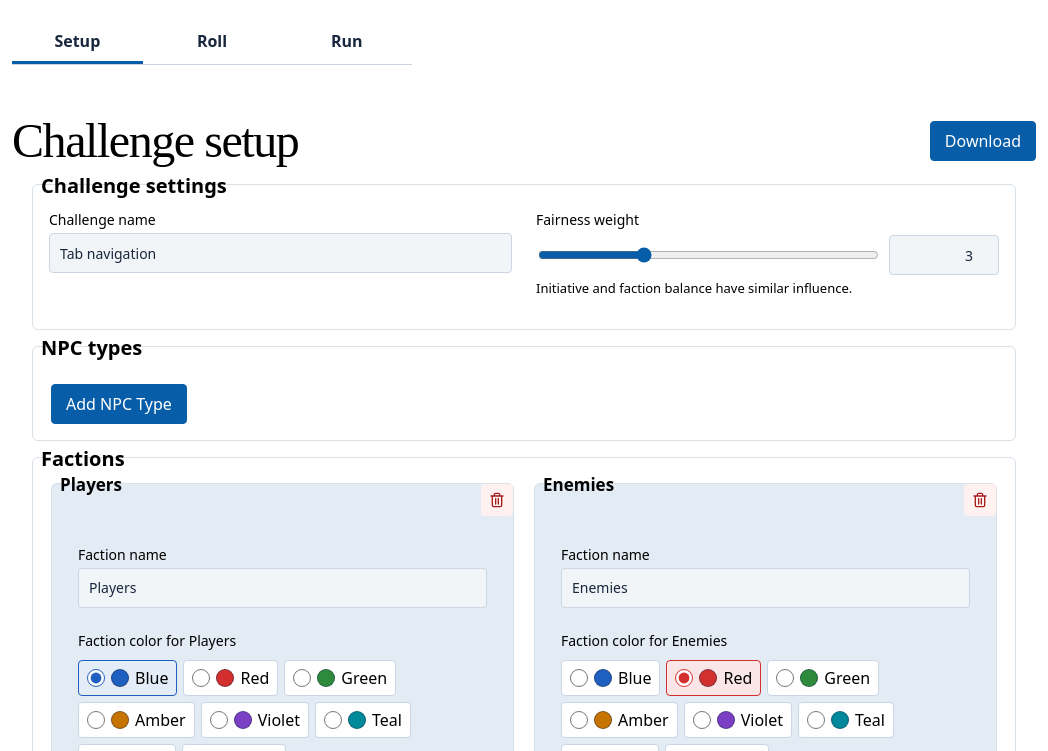
challenge workflow tabs › keeps the selected panel and URL when saving fails before a tab switch
Click the tab "Run". click: x=347, y=42
box: [281,20,412,64]
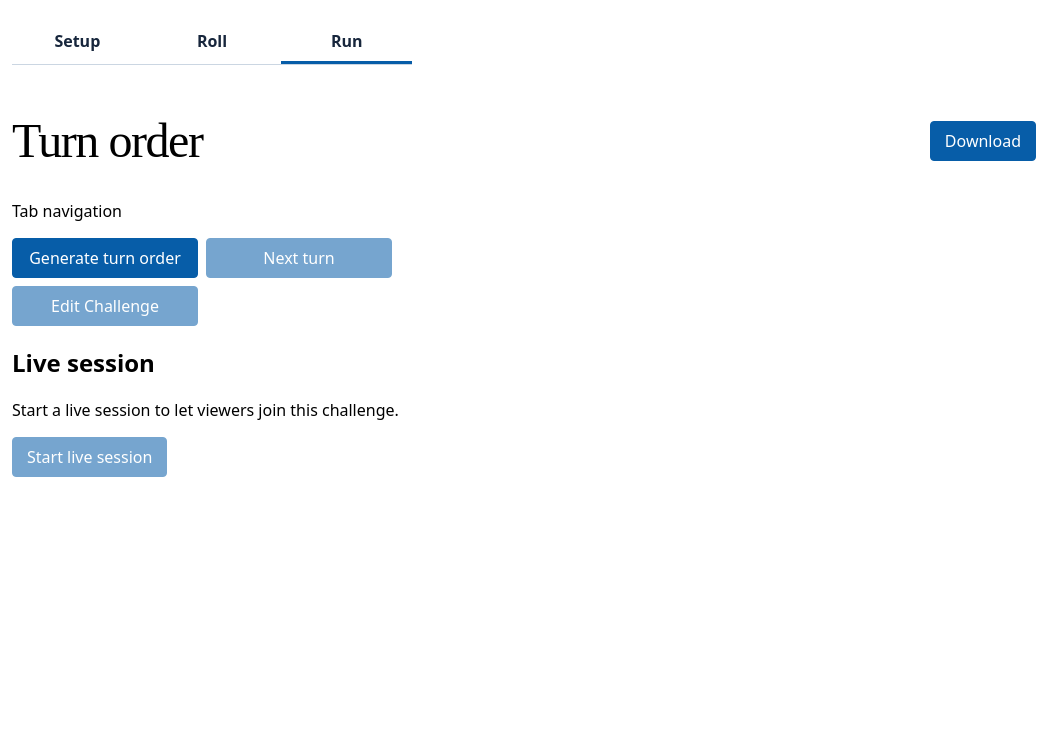
Result: the heading "Turn order" is shown at [12,114,202,167]
Click the tab "Setup". click: x=77, y=42
box: [12,20,143,64]
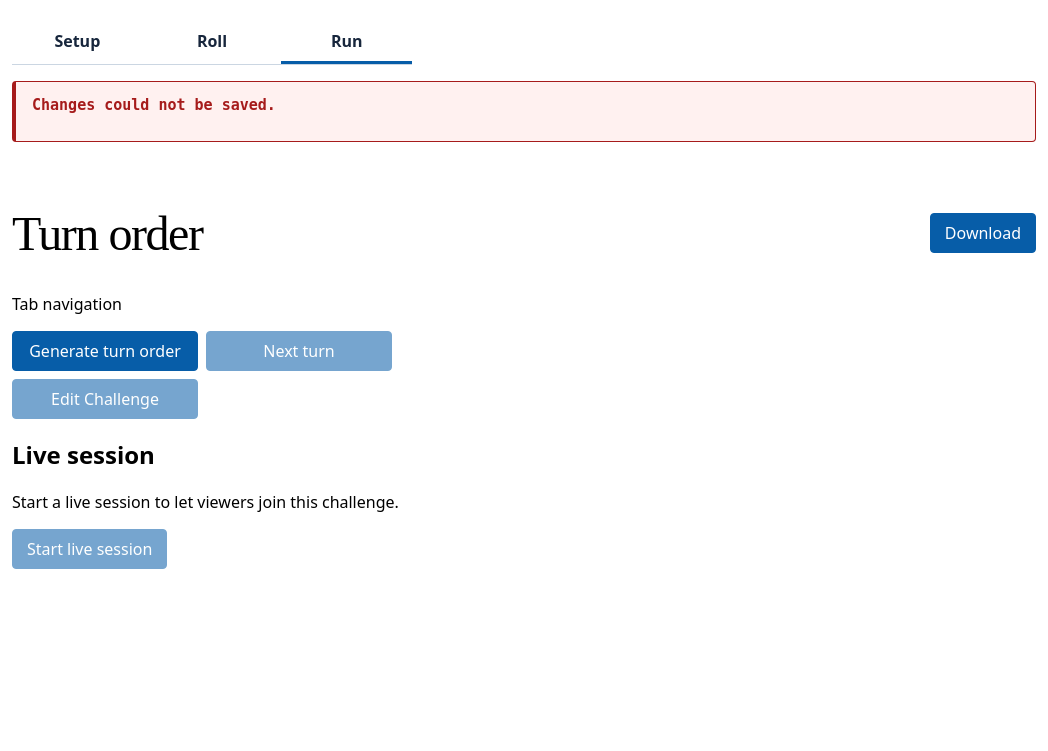
Result: the text "Changes could not be saved." is shown at [32,96,276,114]
